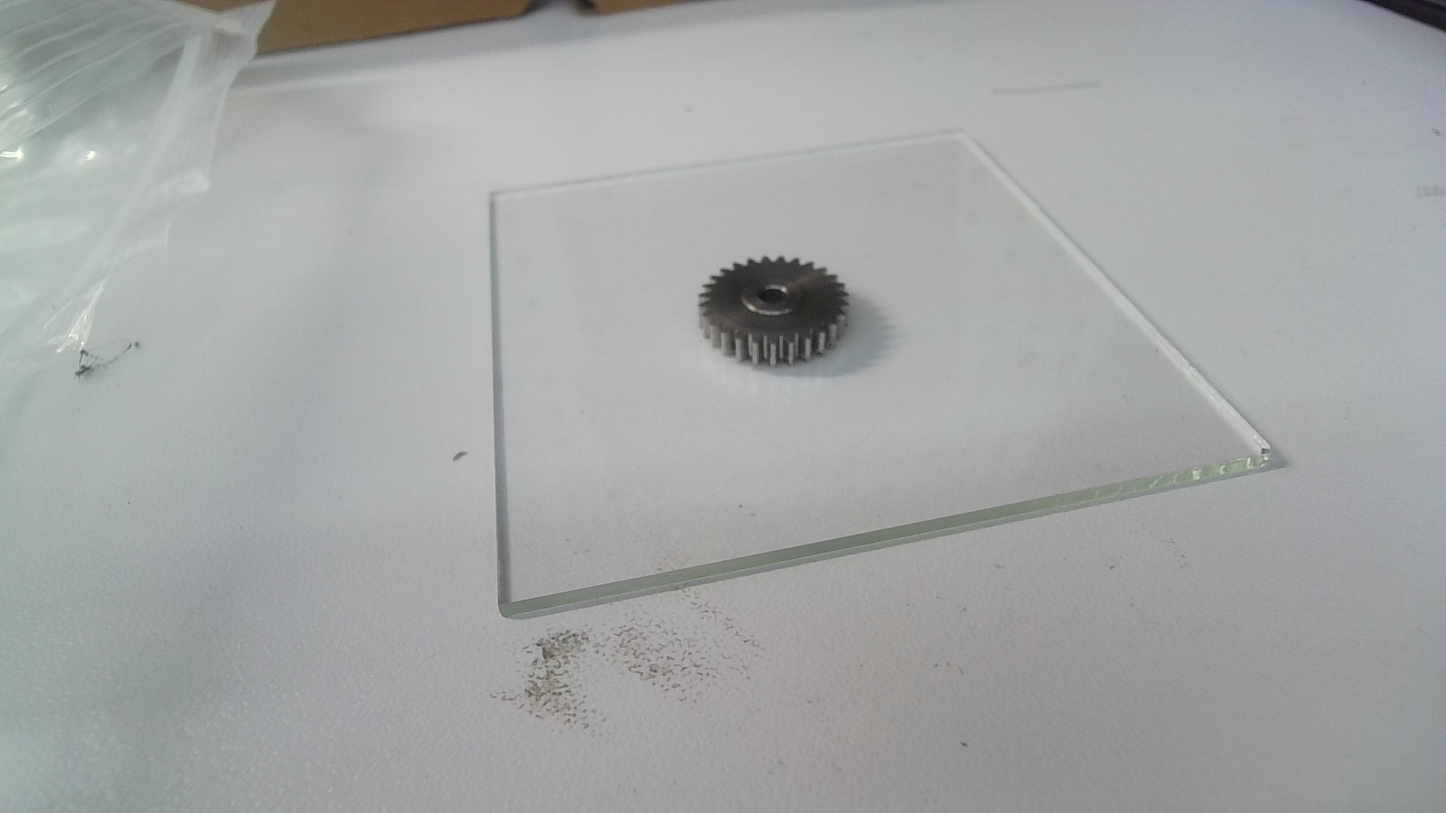gear: (696, 253, 856, 370)
